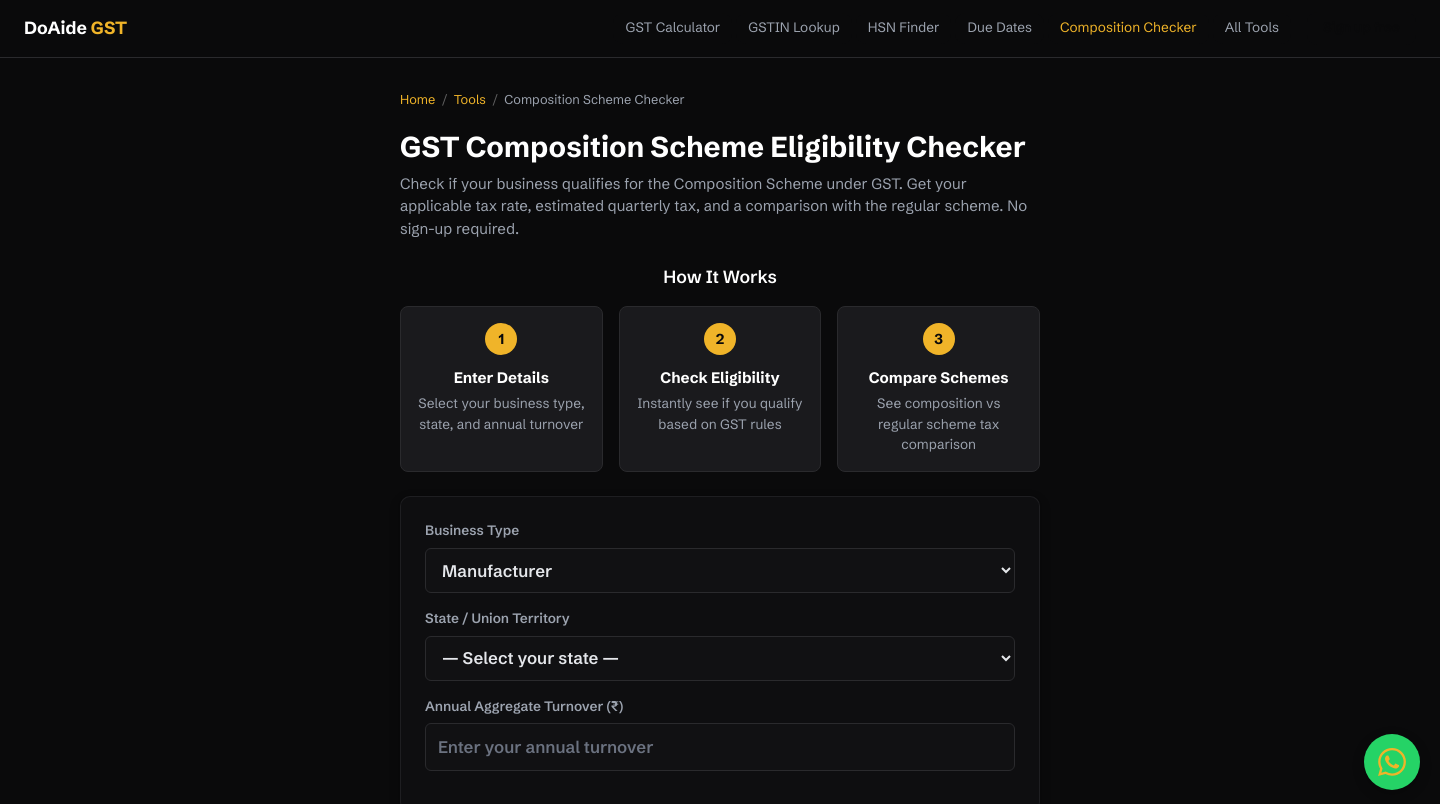
Test: CompositionSchemeCheckerPage › shows 5% rate for eligible restaurants
Select "Restaurant (not serving alcohol)" in the dropdown labelled "Business Type" at (720, 571), box [425,548,1015,593]
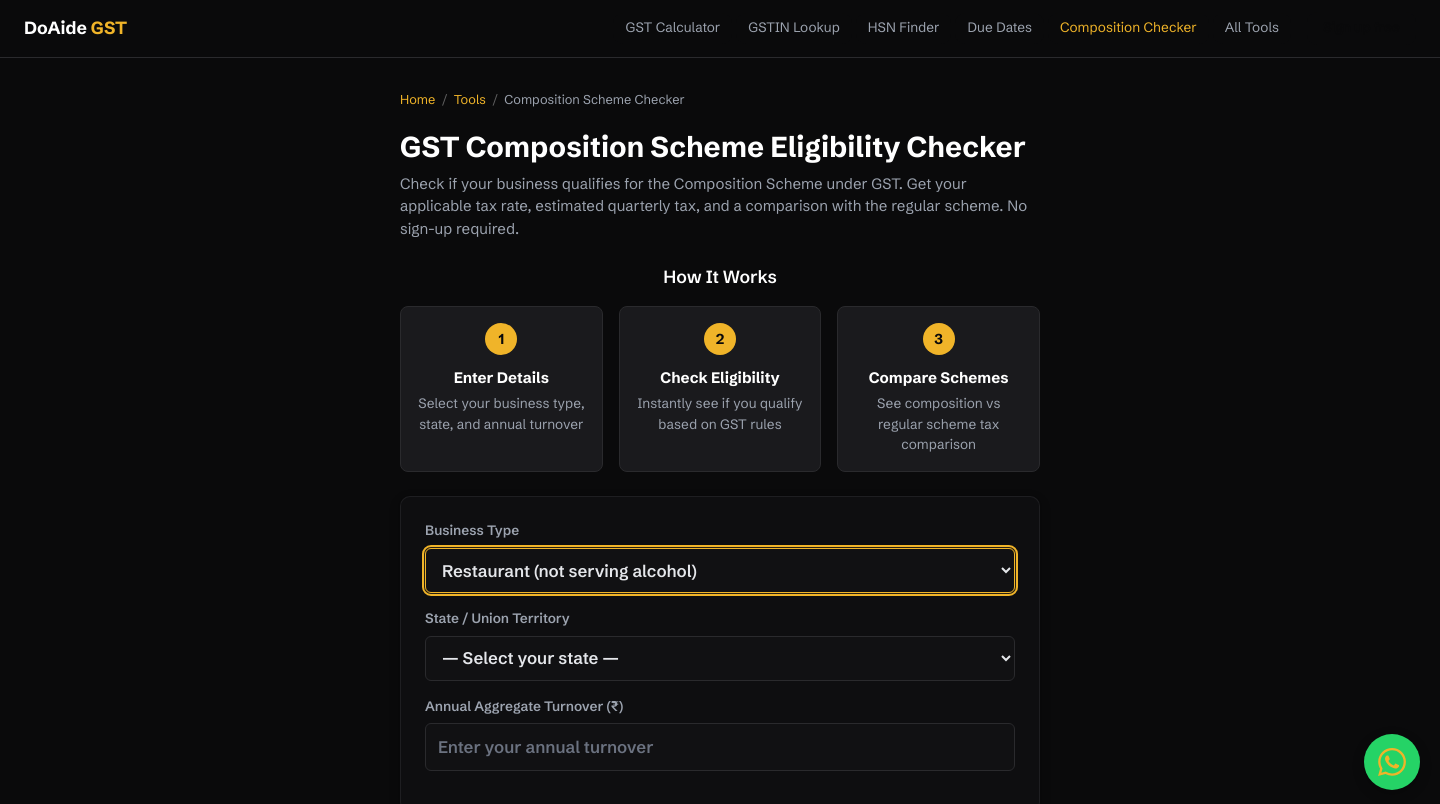
Select "Gujarat" in the dropdown labelled "State / Union Territory" at (720, 658), box [425,636,1015,681]
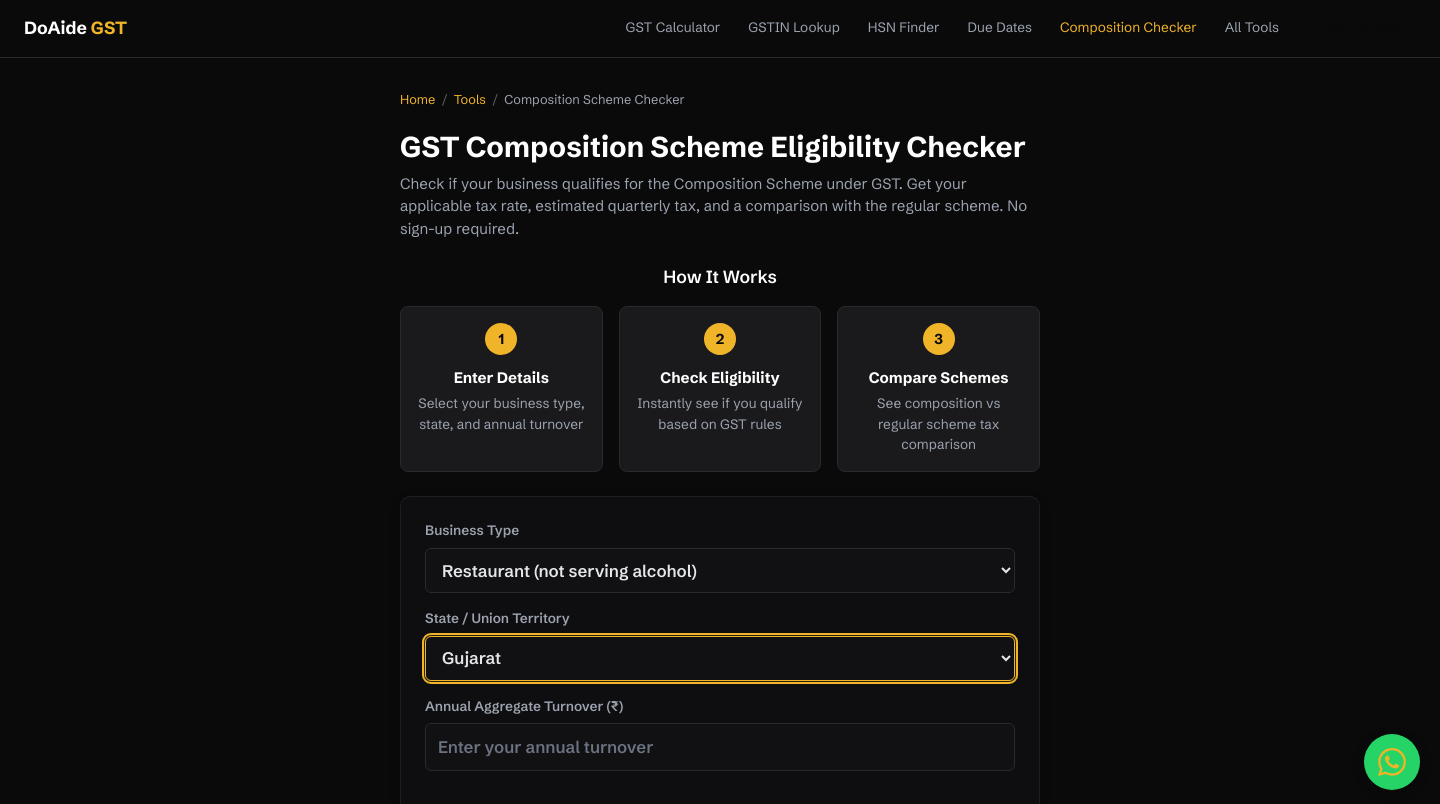
Type "10000000" into the number field labelled "Annual Aggregate Turnover (₹)".
click(720, 747); type("10000000")  # box [425,723,1015,771]
(page scrolled)
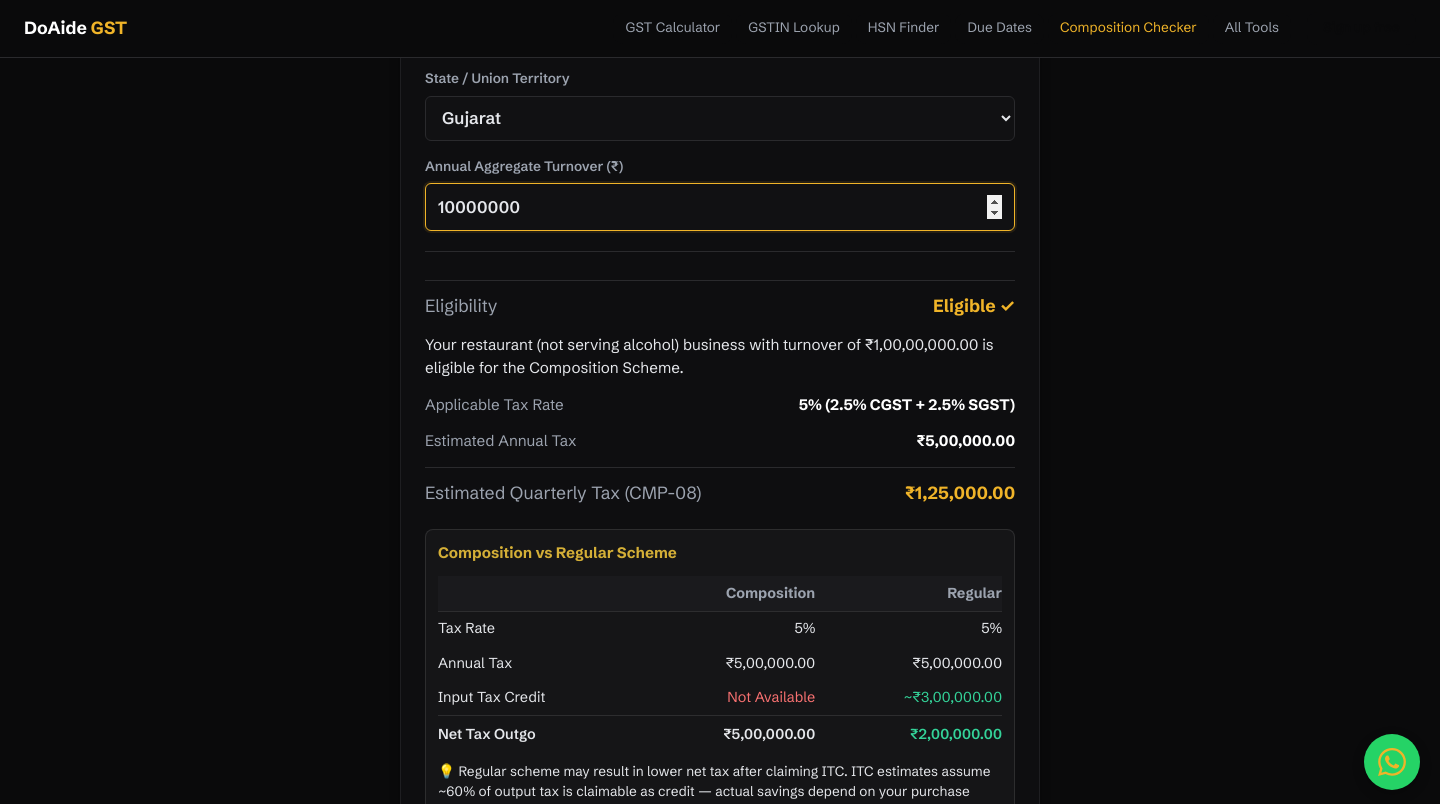
Expected: the text "Eligible ✓" is shown, [933,293,1015,320]
Expected: the text "5% (2.5% CGST + 2.5% SGST)" is shown, [799,394,1015,417]
